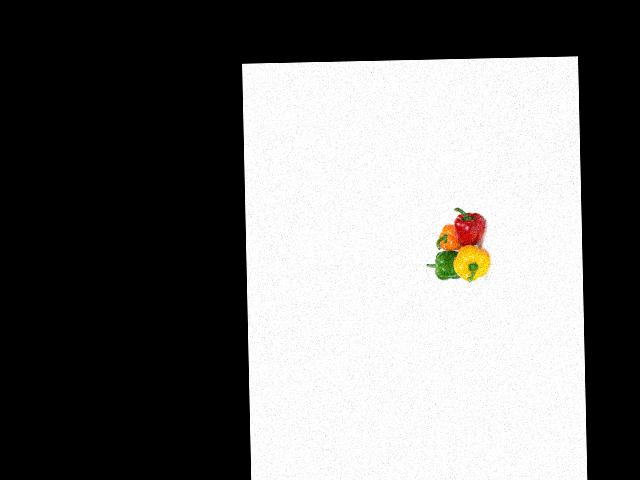bell_pepper: (453, 243, 491, 285)
